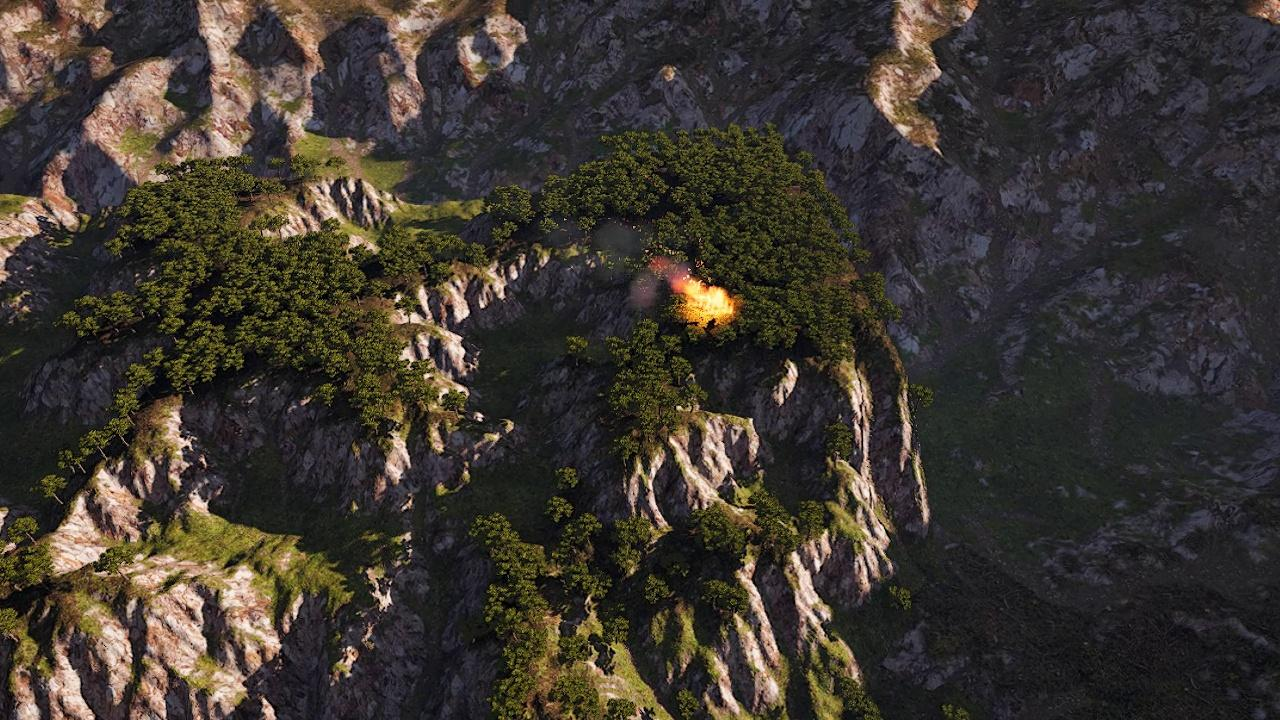fire: (681, 277, 734, 320)
smoke: (584, 222, 685, 302)
